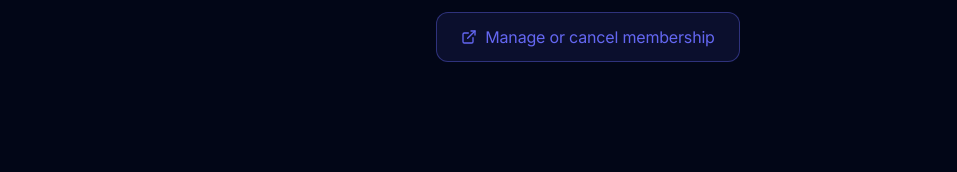
Test: ManageMembershipButton › shows a friendly message and re-enables the button when it fails
This screenshot has width=957, height=172.
Click the button.
click(588, 37)  # box [436, 12, 740, 62]
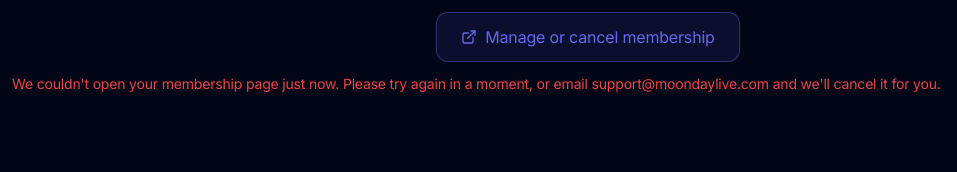
expect the message shows "We couldn't open your membership page just now. Please try again in a moment, or email support@moondaylive.com and we'll cancel it for you.": met, box [12, 75, 941, 92]
